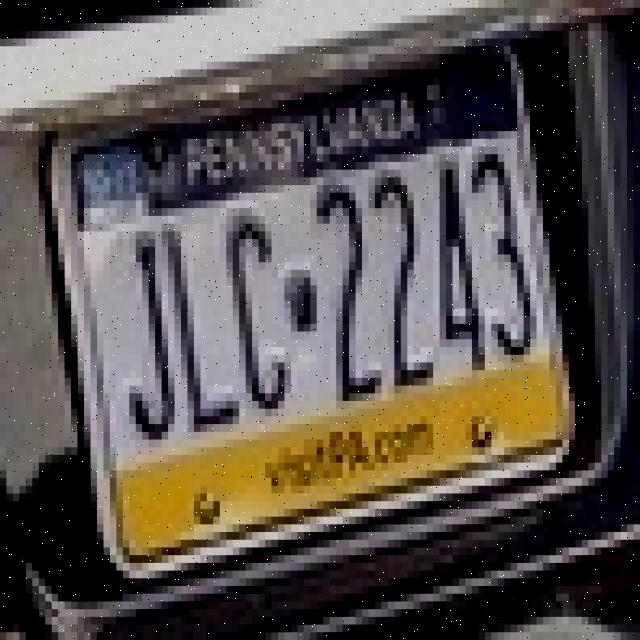licenseplate: (38, 22, 606, 586)
